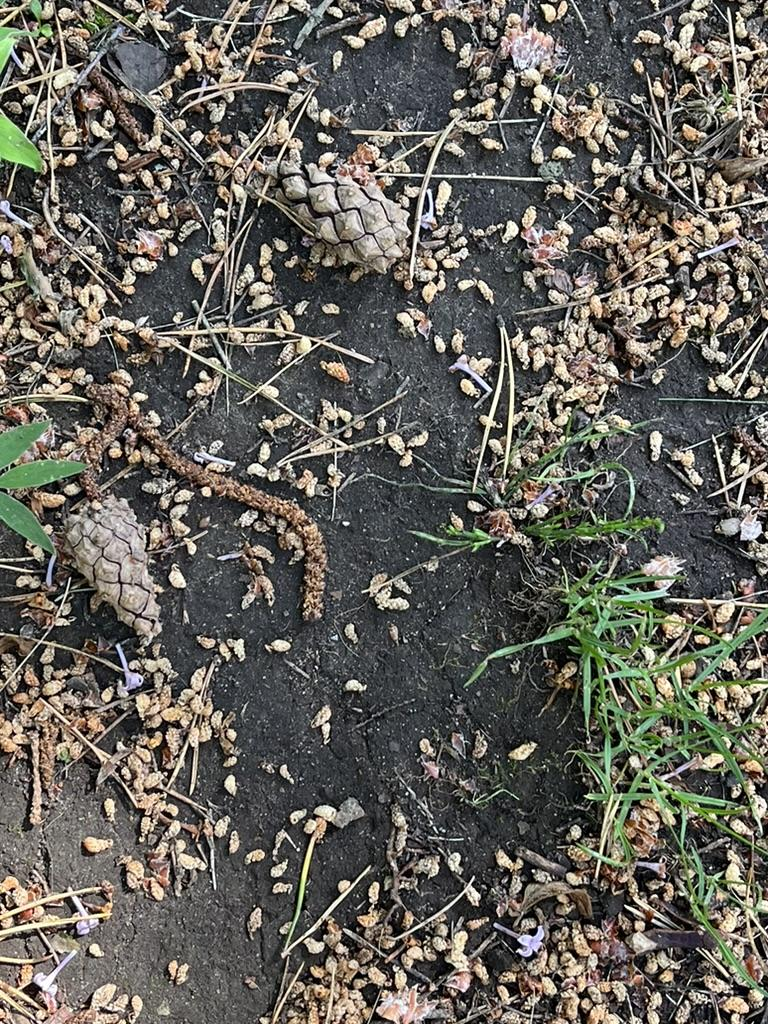pine: (51, 480, 178, 650), (264, 153, 416, 270)
